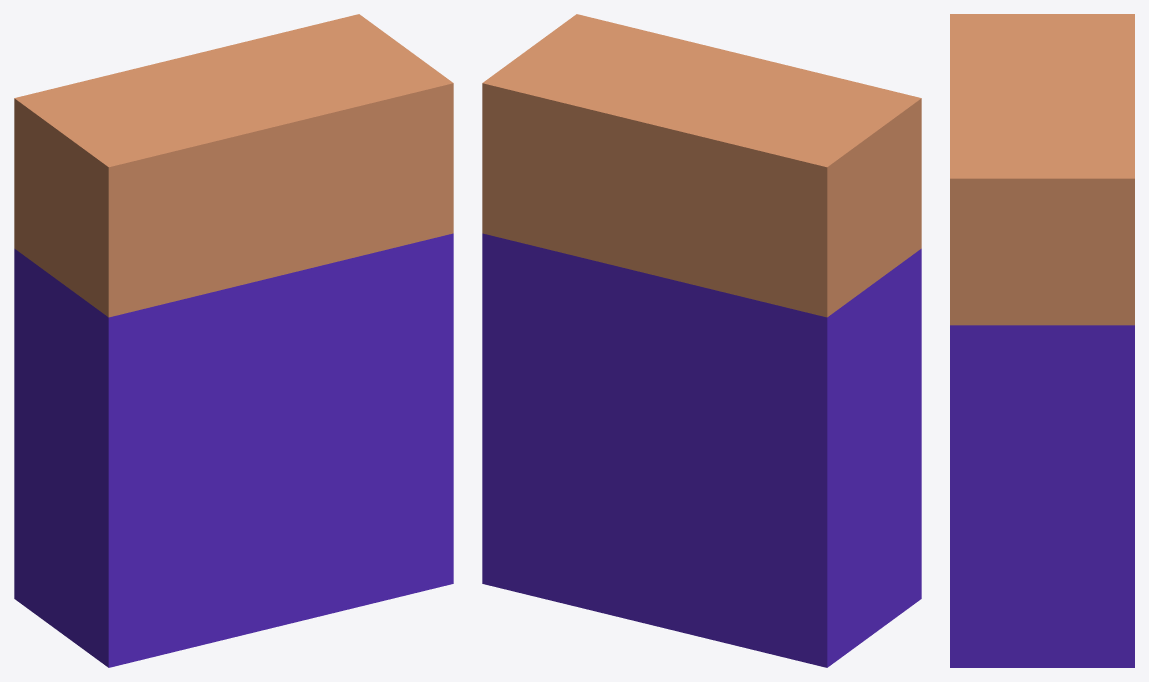
File: Ürün57.fbx
The picture shows the model from 3 angles, left to right: view 1: azimuth 30°, elevation 25°; view 2: azimuth 150°, elevation 25°; view 3: azimuth 270°, elevation 25°; orthographic projection. The views are drawn at different scales.
Visible parts, largest first — view 1: pCube88; view 2: pCube88; view 3: pCube88.
Boxes of the visible parts, box(x1,y1,x2,y2) form: pCube88: box(14, 14, 453, 667); pCube88: box(482, 14, 921, 667); pCube88: box(950, 14, 1134, 667).
Size of the model in its own units: 23.51 by 32.6 by 11.16.
